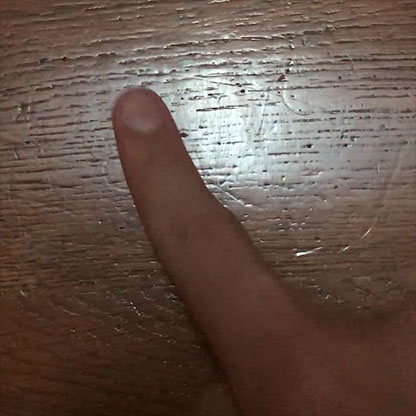fingertip: (107, 83, 182, 152)
